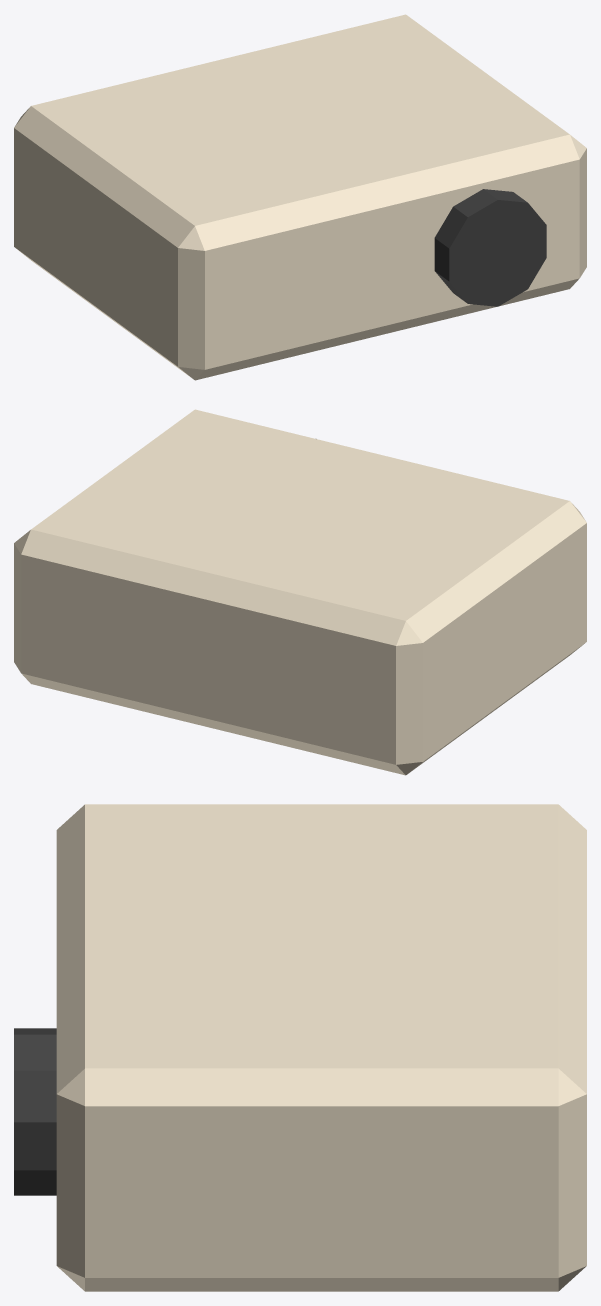
3 renders of one model, top to bottom at view 1: azimuth 30°, elevation 25°; view 2: azimuth 150°, elevation 25°; view 3: azimuth 270°, elevation 25°, orthographic. The views are drawn at different scales.
Visible parts, largest first — view 1: Projector, Lens; view 2: Projector; view 3: Projector, Lens.
Boxes of the visible parts, x1,y1,x2,y2 form: Projector: (14,14,586,380); Lens: (434,189,546,306); Projector: (14,409,586,775); Projector: (56,804,586,1291); Lens: (14,1028,56,1195).
Bounding box in the file's own units: 0.36 × 0.13 × 0.3025.
Materials: 1 (1 with a texture image).
